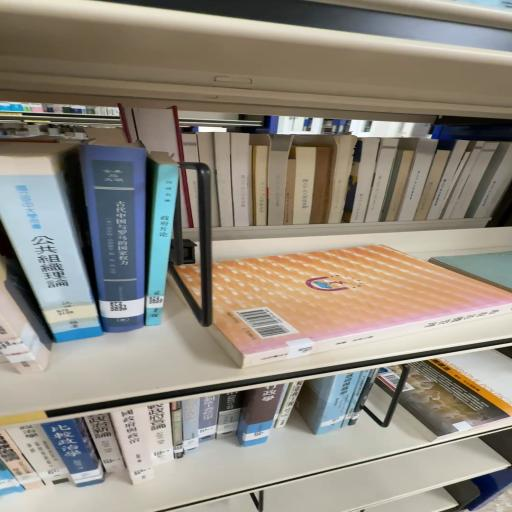flat: (210, 246, 512, 369), (400, 348, 512, 440), (378, 366, 403, 396)
